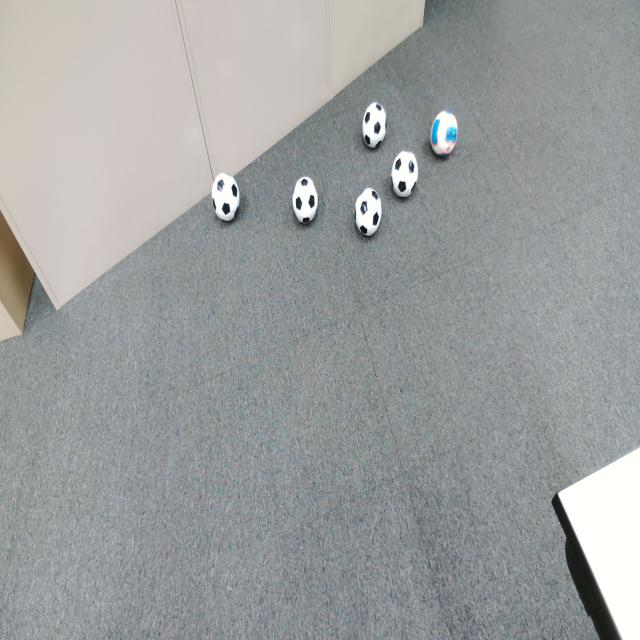ball: (354, 187, 382, 237), (212, 173, 240, 222), (392, 151, 418, 199), (432, 110, 459, 156), (292, 177, 317, 226), (363, 103, 387, 148)
